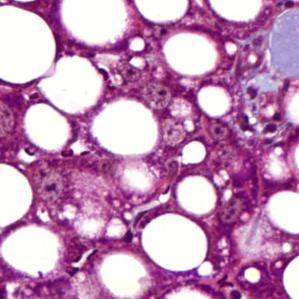steatosis: (141, 209, 211, 276), (93, 102, 162, 154), (163, 28, 221, 76), (22, 102, 76, 153), (175, 172, 221, 213)
